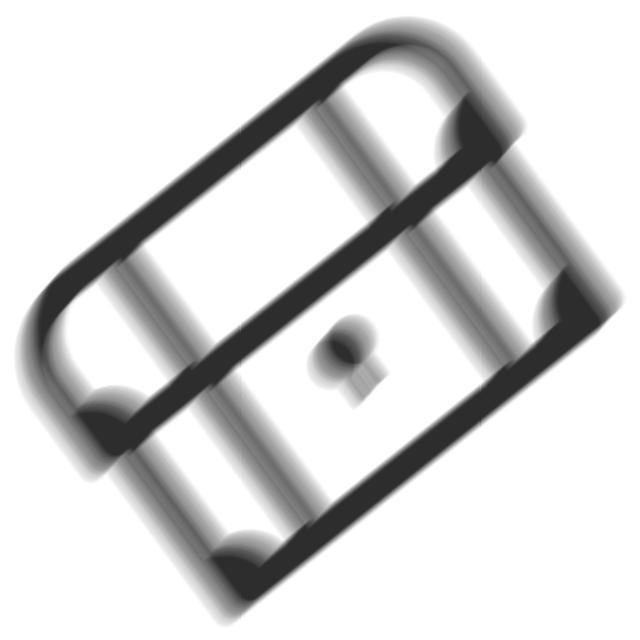treasure_box: (3, 9, 635, 637)
